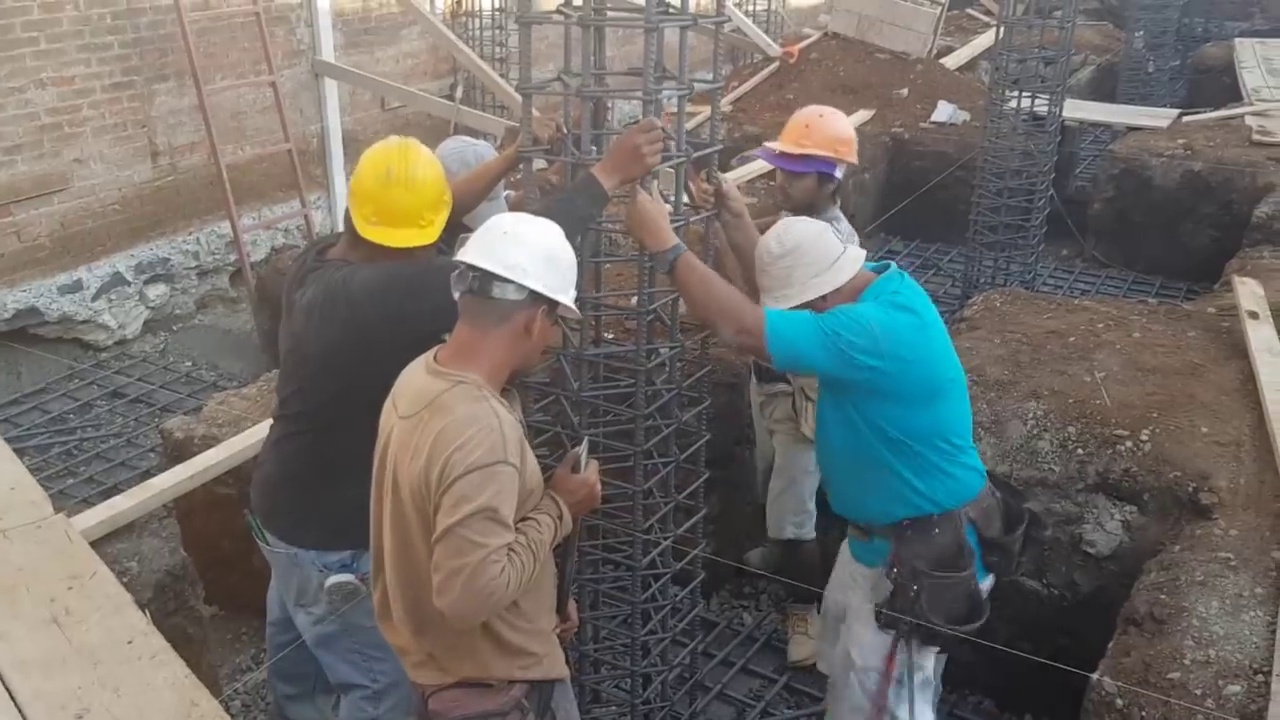helmet: (454, 207, 579, 318), (351, 137, 446, 254), (751, 95, 864, 172)
helmet-off: (736, 207, 876, 326), (434, 133, 511, 234)
helmet-on: (427, 210, 577, 381), (323, 136, 448, 272), (746, 96, 864, 215)
person: (633, 177, 1012, 720), (250, 116, 531, 717), (362, 207, 610, 712), (707, 96, 863, 672)
